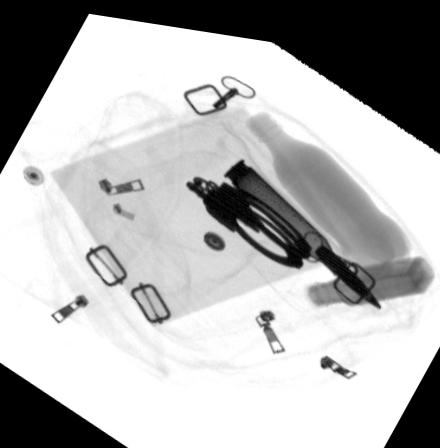Bullet: (221, 148, 378, 296)
HandCuffs: (183, 168, 311, 260)
